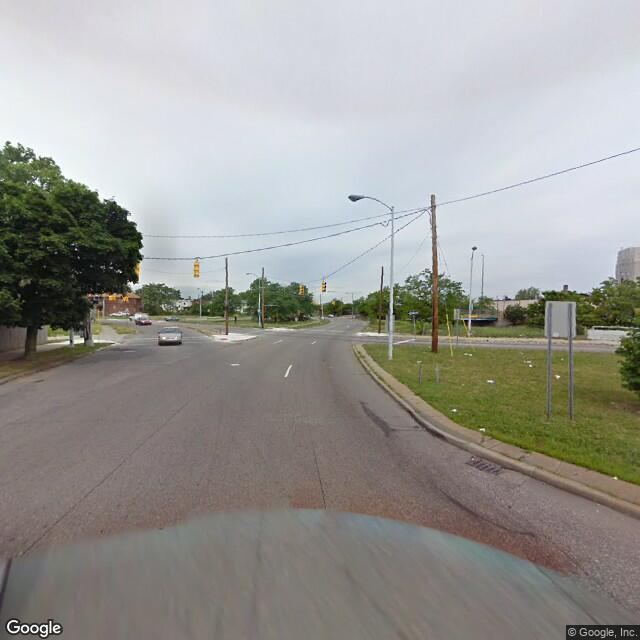litter: (527, 360, 537, 369), (486, 379, 494, 384), (465, 352, 473, 357), (524, 358, 530, 364), (452, 408, 457, 415), (612, 474, 617, 480), (559, 356, 566, 360), (555, 373, 560, 378), (478, 426, 484, 430)
